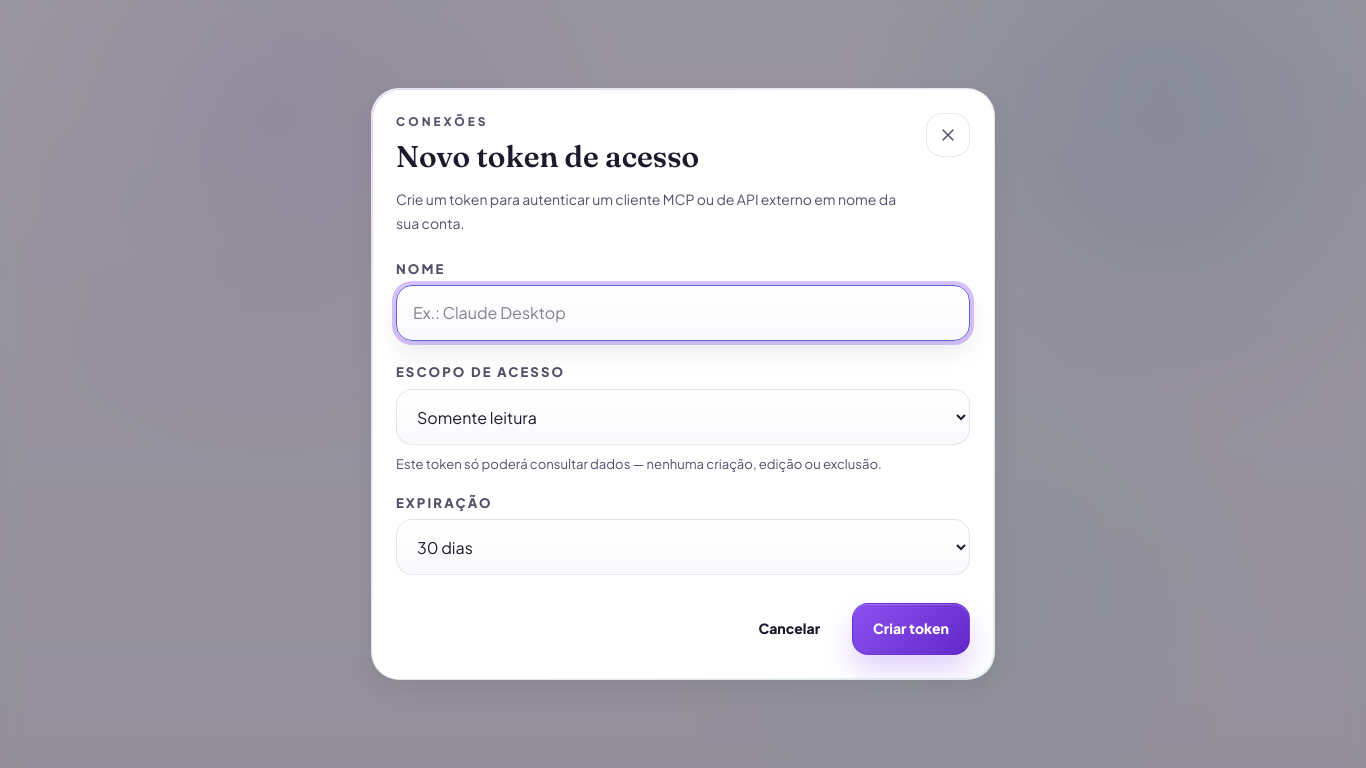
Test case: CreateTokenModal › mostra erro quando o nome está vazio ao submeter
Click the button "Criar token" at (911, 629), box [852,603,970,655]
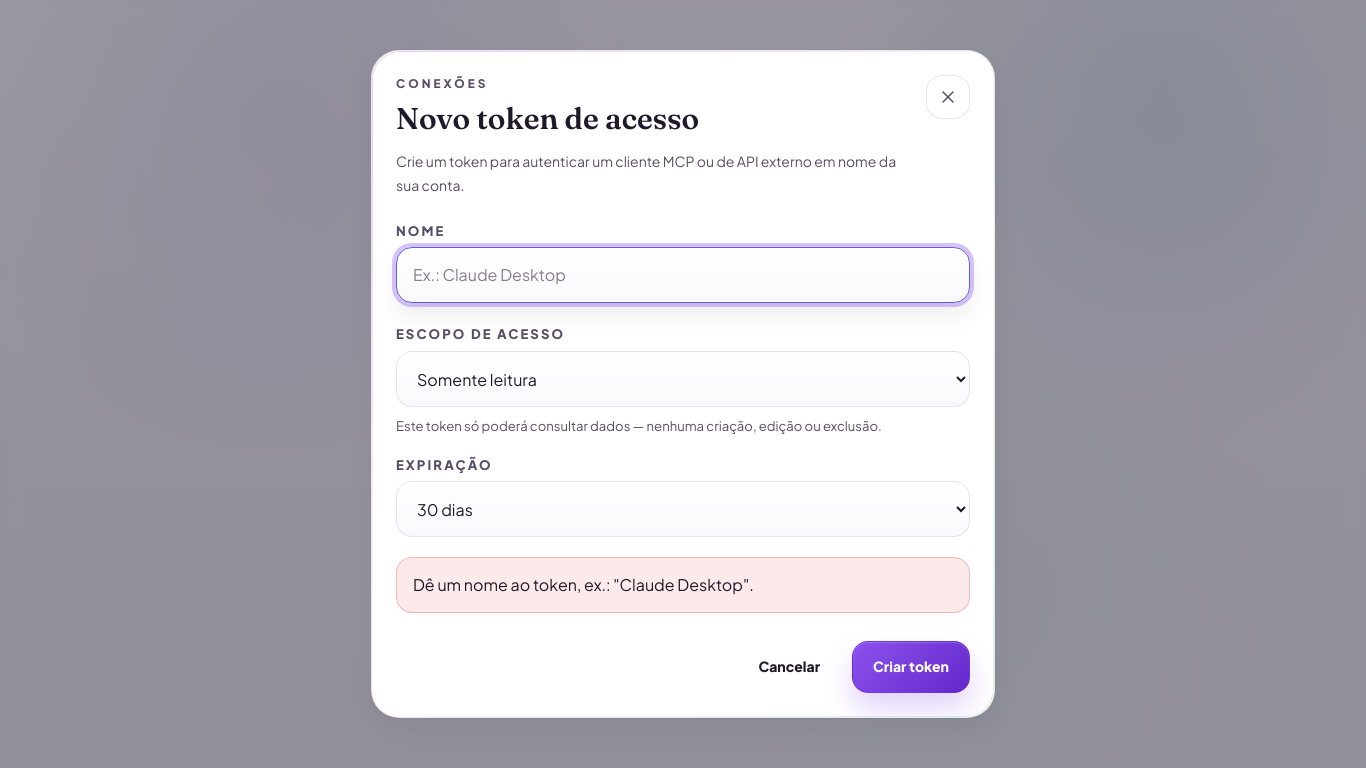
expect the message shows "Dê um nome ao token": met, box [413,574,754,595]
